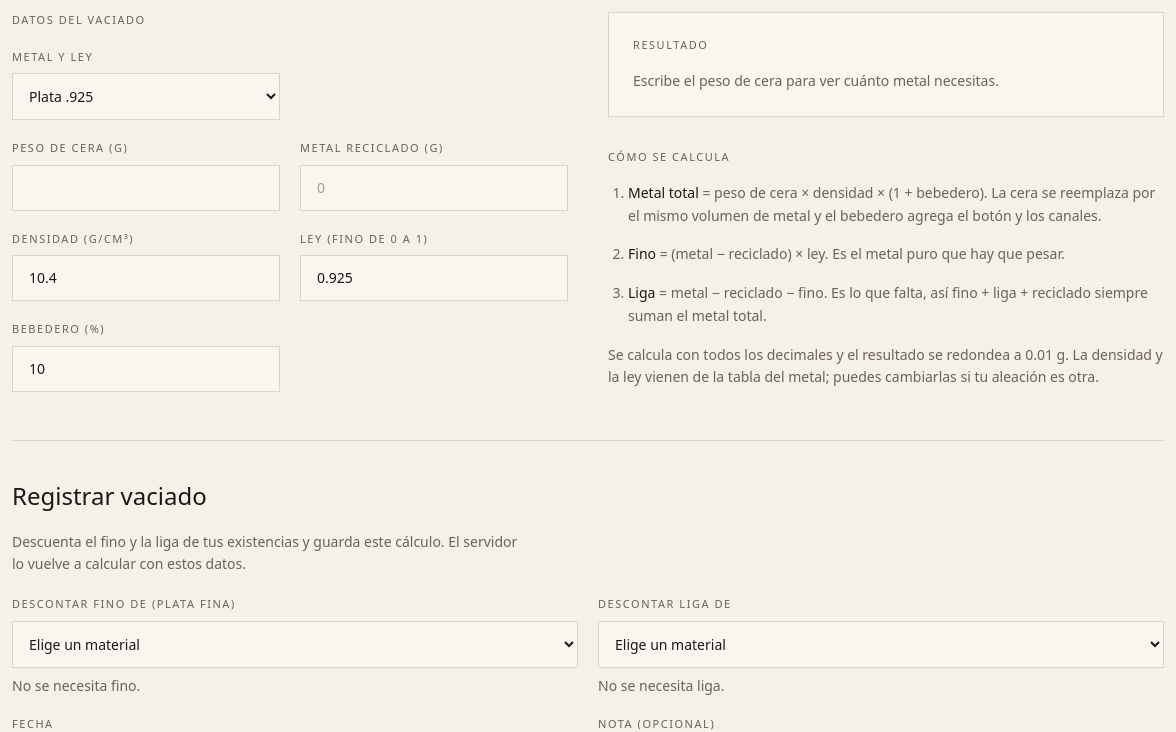
Test: CastingCalculator: inputs and defaults › refills density and fineness from the table when the metal or color changes
The width and height of the screenshot is (1176, 732).
Select "Oro 14k" in the dropdown labelled "Metal y ley" at (146, 96), box [12,73,280,120]
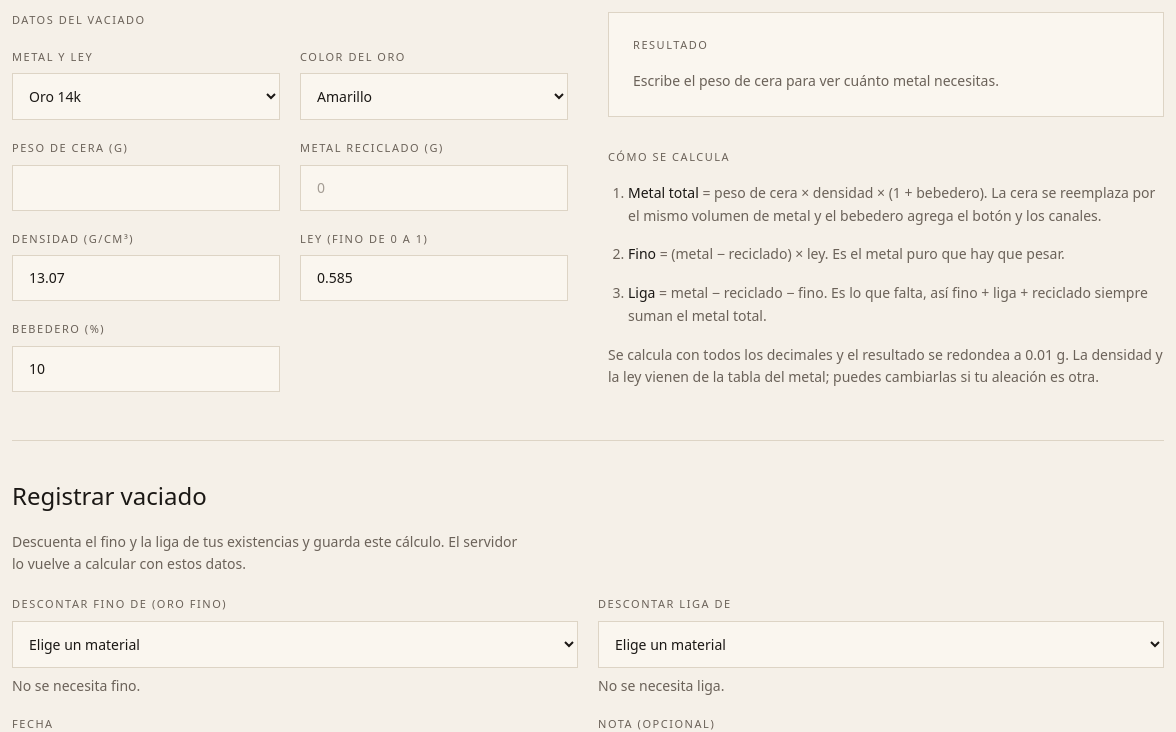
Result: the number field labelled "Densidad (g/cm³)" holds "13.07" at [12,255,280,301]
Result: the number field labelled "Ley (fino de 0 a 1)" holds "0.585" at [300,255,568,301]
Select "Blanco" in the dropdown labelled "Color del oro" at (434, 96), box [300,73,568,120]
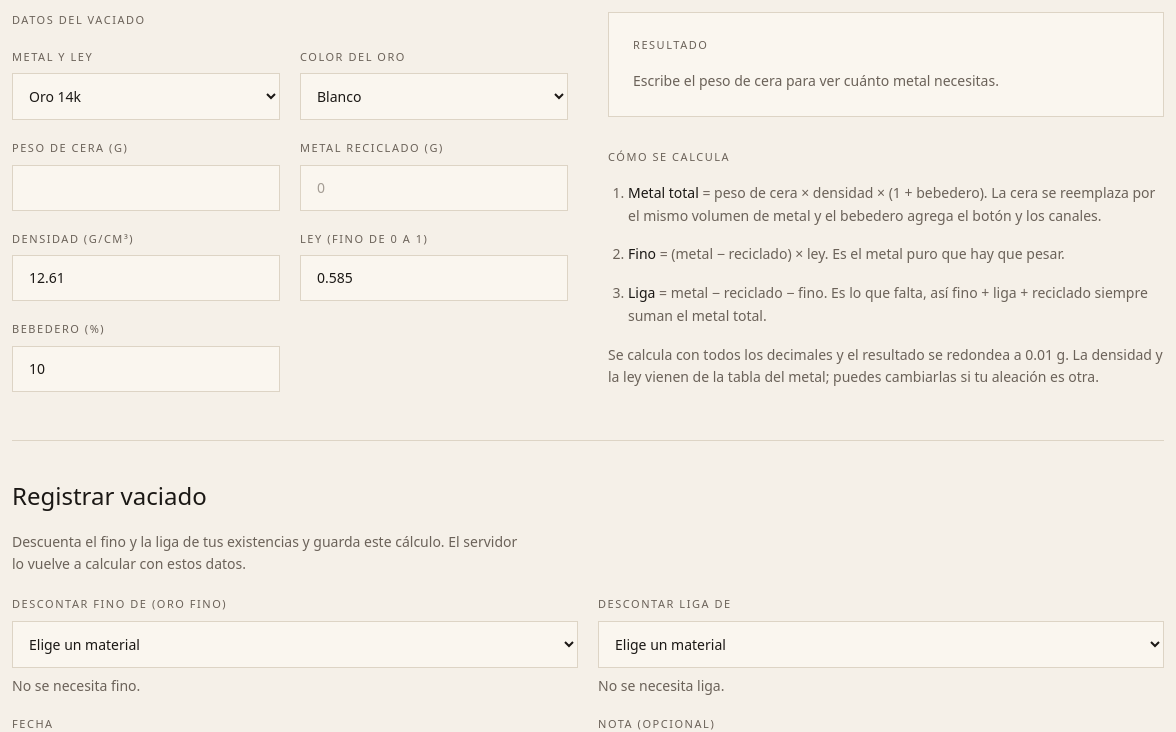
Result: the number field labelled "Densidad (g/cm³)" holds "12.61" at [12,255,280,301]
Select "Rojo" in the dropdown labelled "Color del oro" at (434, 96), box [300,73,568,120]
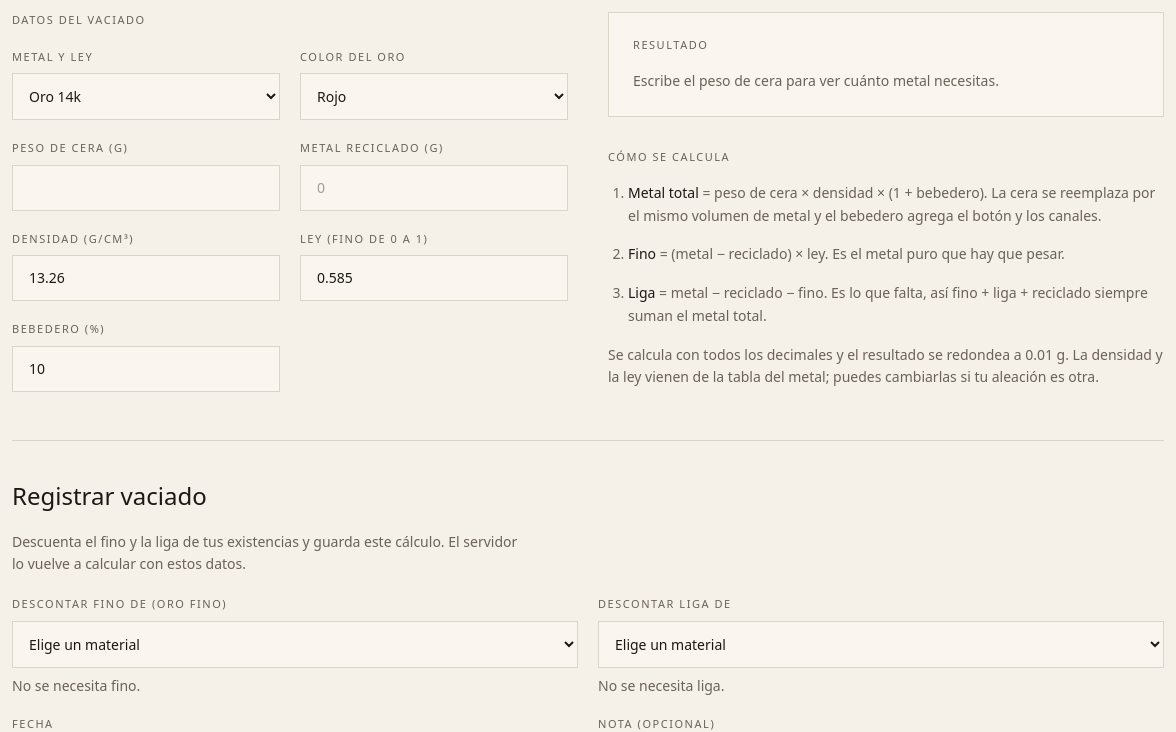
Result: the number field labelled "Densidad (g/cm³)" holds "13.26" at [12,255,280,301]
Select "Oro 18k" in the dropdown labelled "Metal y ley" at (146, 96), box [12,73,280,120]
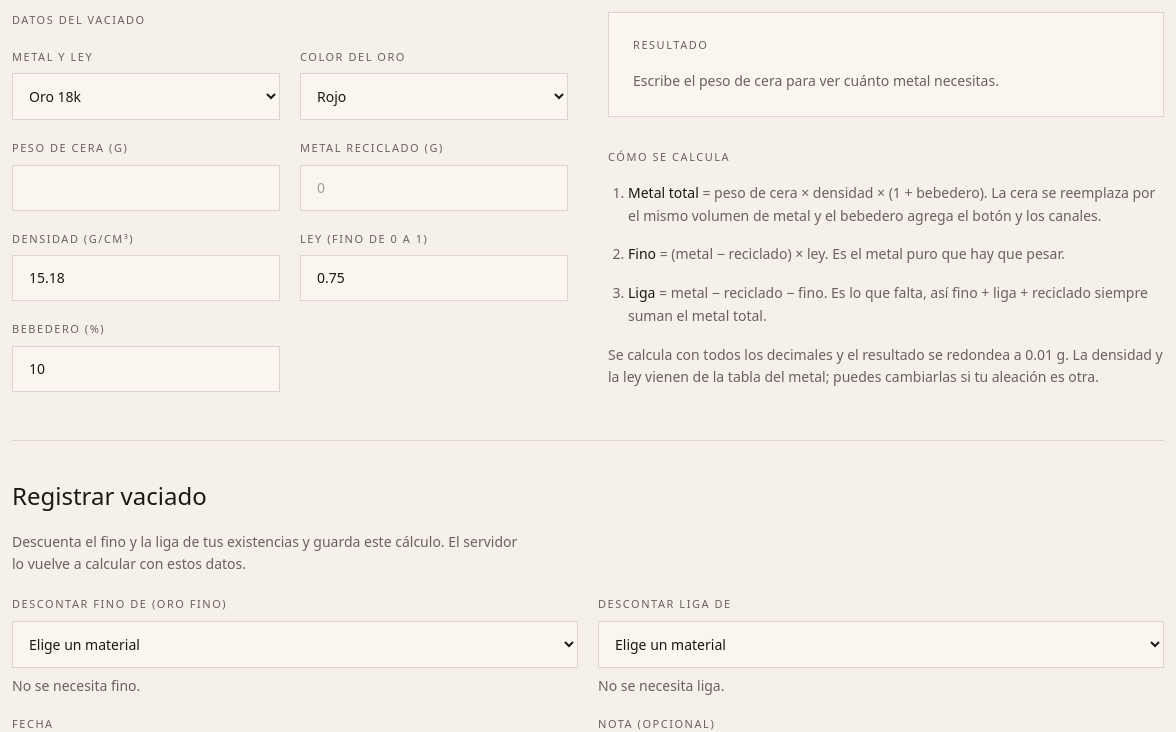
Result: the number field labelled "Densidad (g/cm³)" holds "15.18" at [12,255,280,301]
Result: the number field labelled "Ley (fino de 0 a 1)" holds "0.75" at [300,255,568,301]
